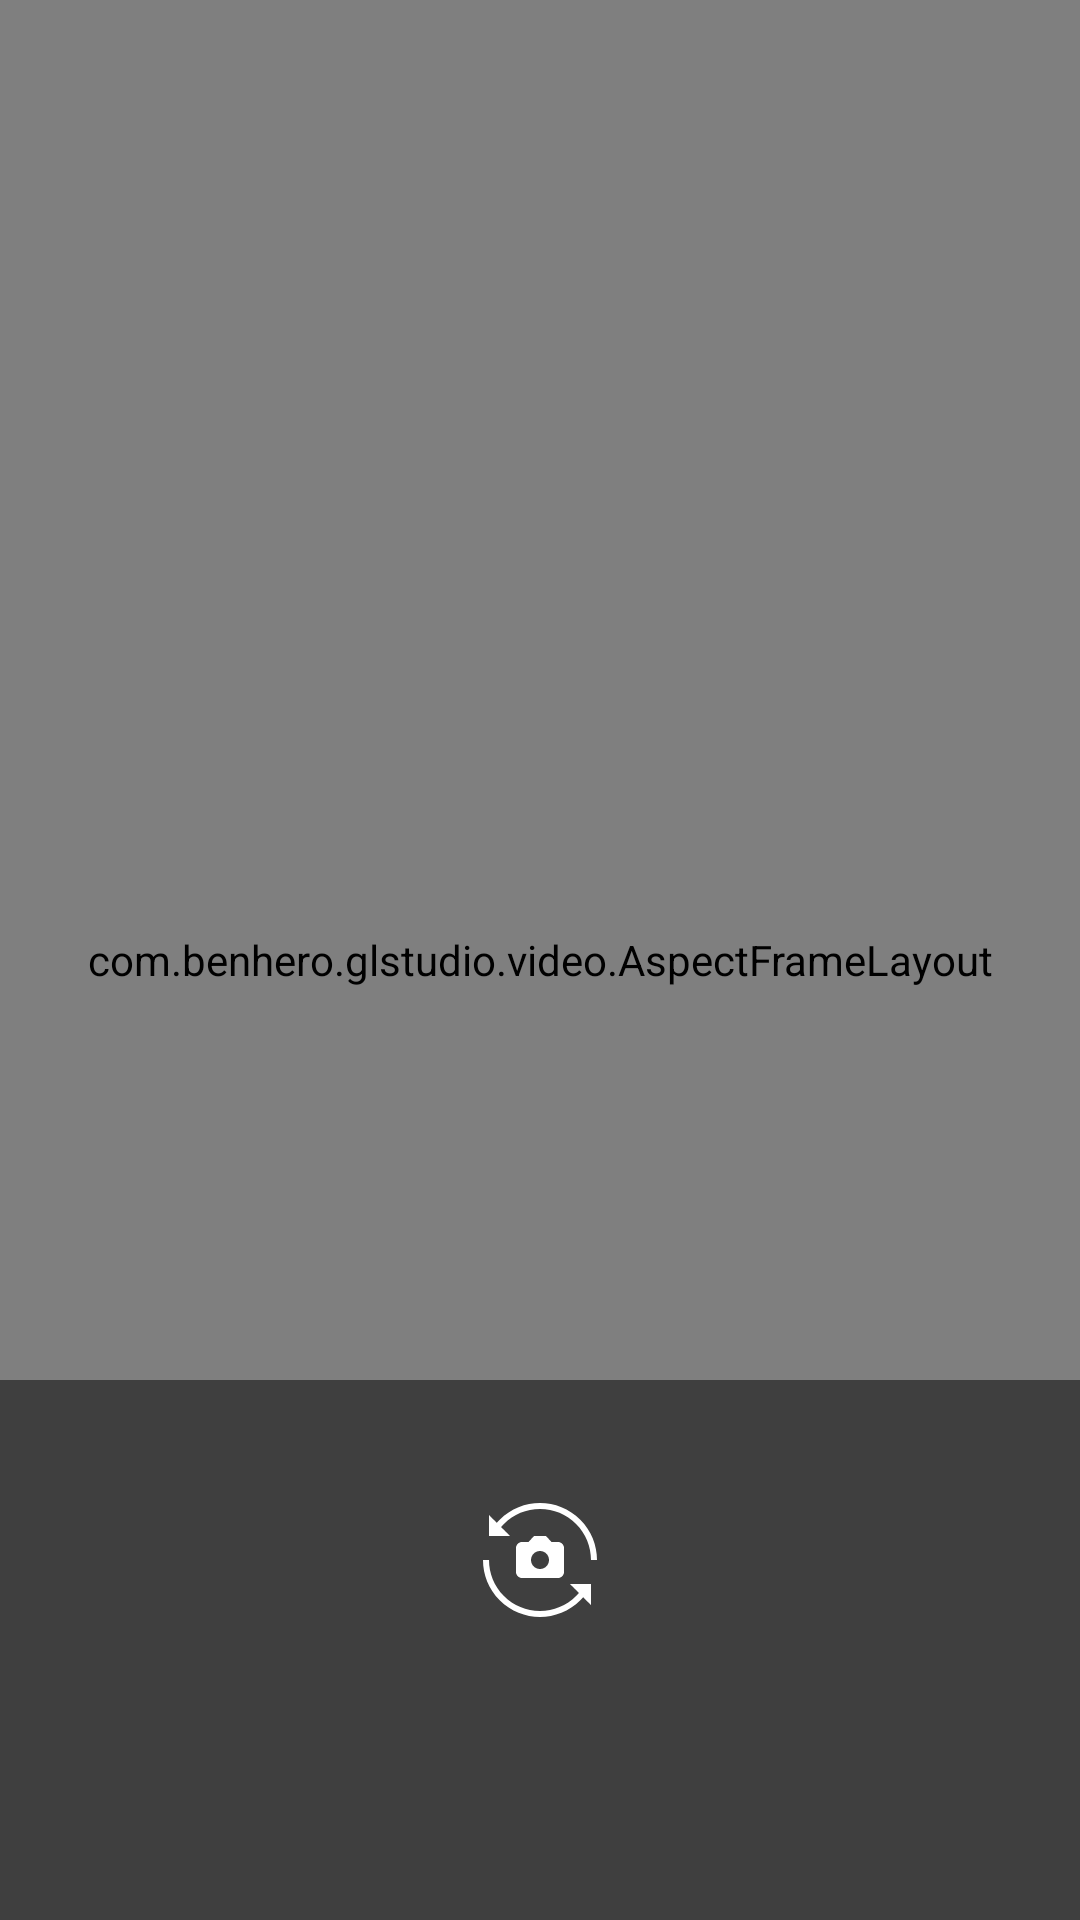

Icons on this 1080x1920 Android screen, each with its box as (x1, y1, x2, y2):
front back switch animation: (483, 1503, 597, 1617)
